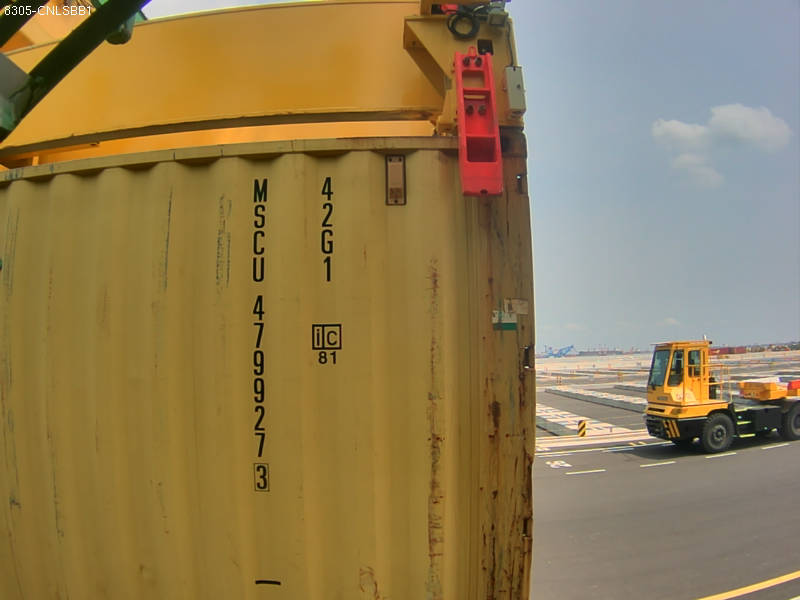container_no_door: (6, 171, 523, 600)
